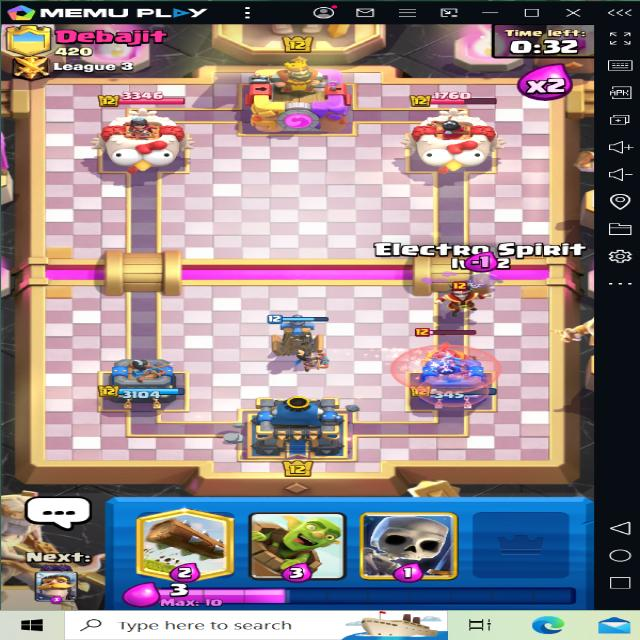electro-wizard: (435, 275, 494, 322)
mega-knight: (407, 328, 488, 380)
